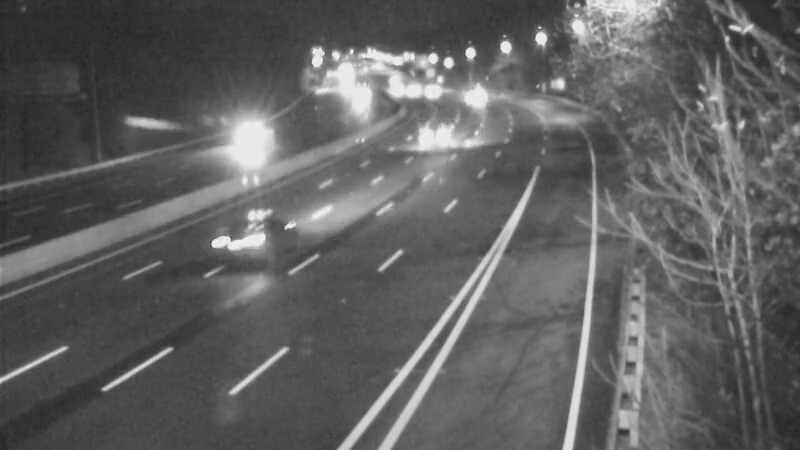vehicle: (214, 208, 294, 288), (390, 67, 440, 117), (369, 65, 419, 115), (406, 66, 456, 116), (446, 77, 496, 127), (415, 109, 465, 159), (221, 115, 271, 165), (335, 71, 385, 121)
